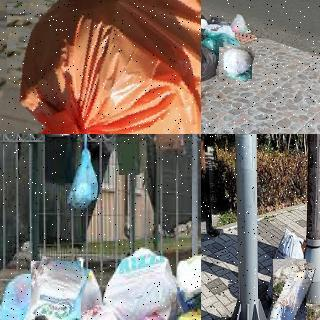Garbage: (0, 0, 201, 134), (104, 250, 176, 319), (27, 258, 85, 320), (267, 257, 311, 320), (266, 230, 304, 302), (0, 272, 43, 320), (217, 45, 254, 81), (204, 31, 246, 56), (176, 255, 201, 286), (201, 43, 219, 82)
